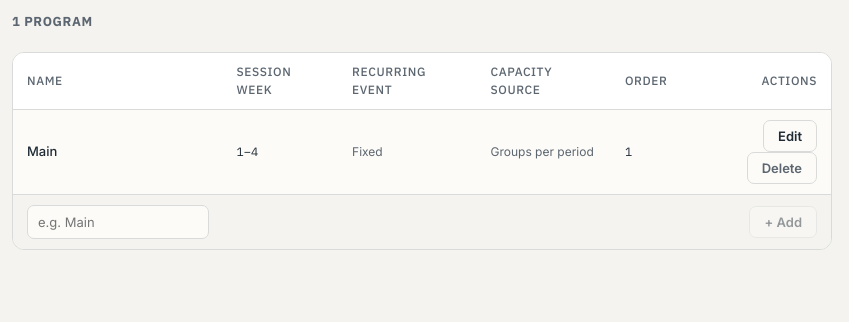
Test case: CohortsScreen › keeps the row in edit mode when saving a cohort fails
expect the text "Main" is shown: met, box left=13, top=109, right=223, bottom=194
Click the button "Edit" at (790, 136), box left=763, top=120, right=817, bottom=152
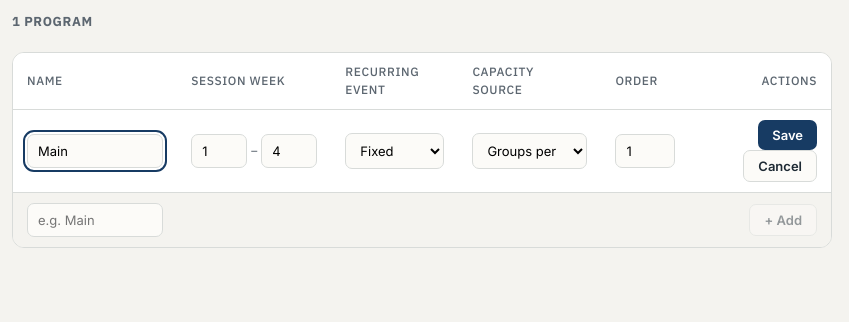
Click the button "Save" at (788, 134), box left=758, top=120, right=817, bottom=150
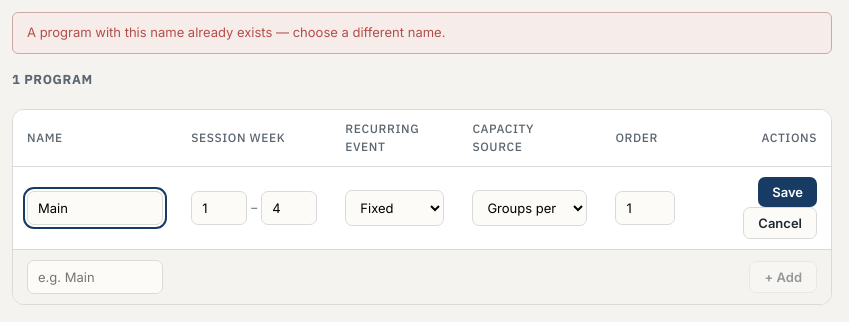
expect the button "Save" is shown: met, box left=758, top=177, right=817, bottom=207
expect the button "Cancel" is shown: met, box left=743, top=207, right=817, bottom=239
expect the text "A program with this name already exists — choose a different name." is shown: met, box left=12, top=12, right=832, bottom=54
